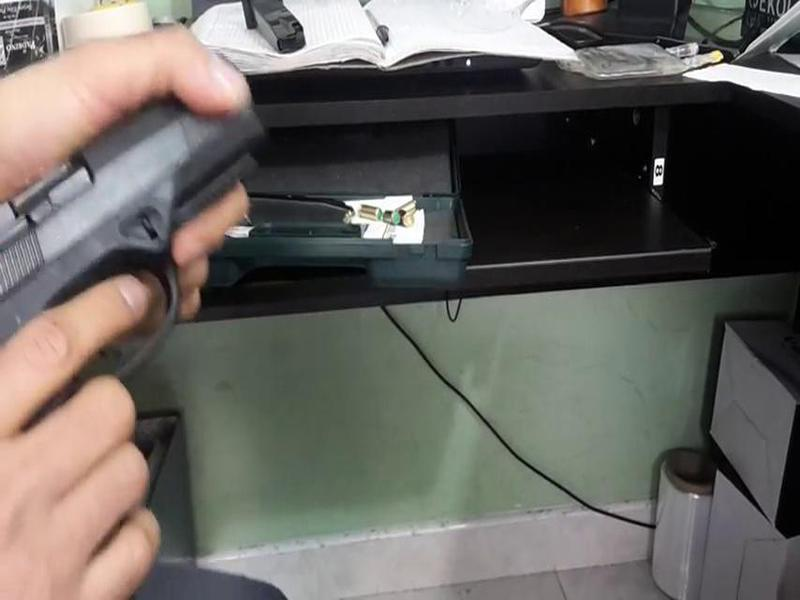Pistola: (1, 47, 253, 424)
